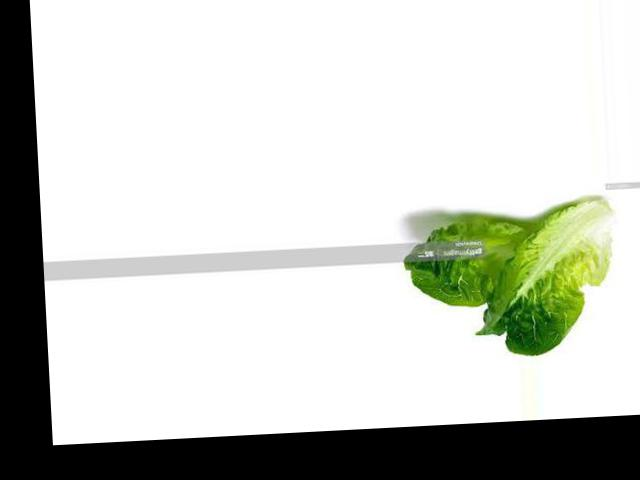lettuce: (445, 196, 609, 327)
